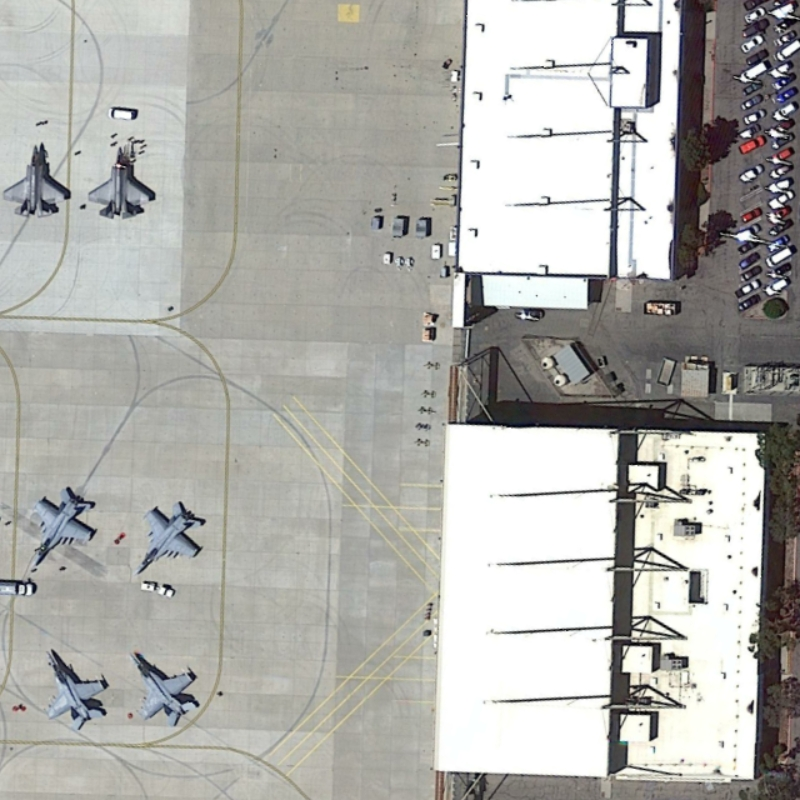A15: (85, 142, 156, 224), (4, 140, 71, 222)
A16: (39, 645, 112, 734), (125, 649, 202, 732), (26, 485, 98, 572), (133, 499, 206, 581)
